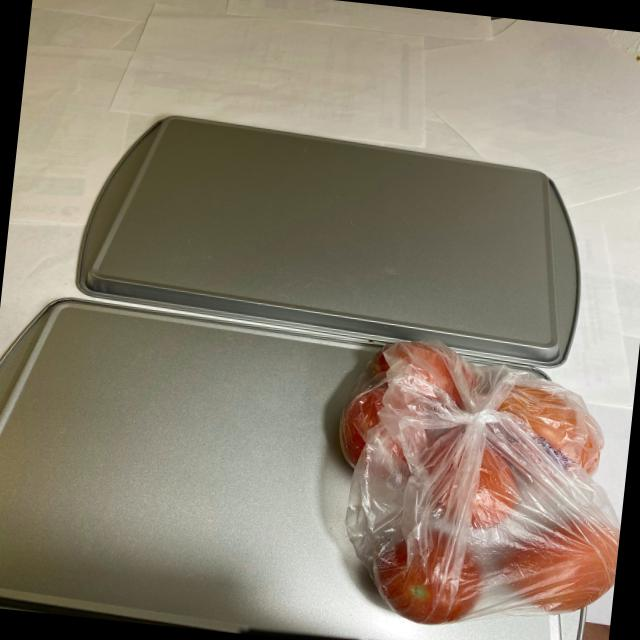tomato: (337, 332, 637, 640)
